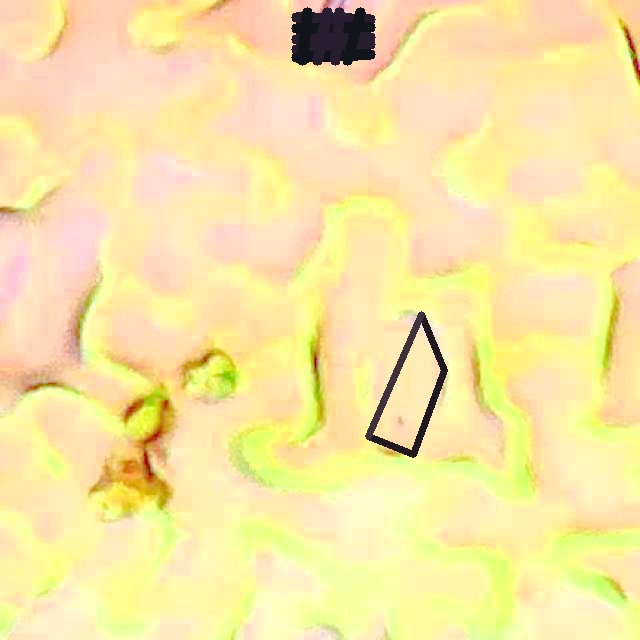close: (365, 311, 447, 457)
open: (291, 7, 374, 65)
